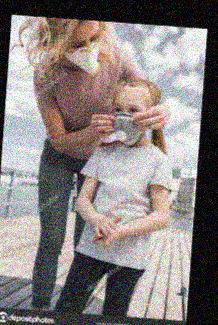with_mask: (64, 26, 100, 78), (111, 100, 146, 146)
